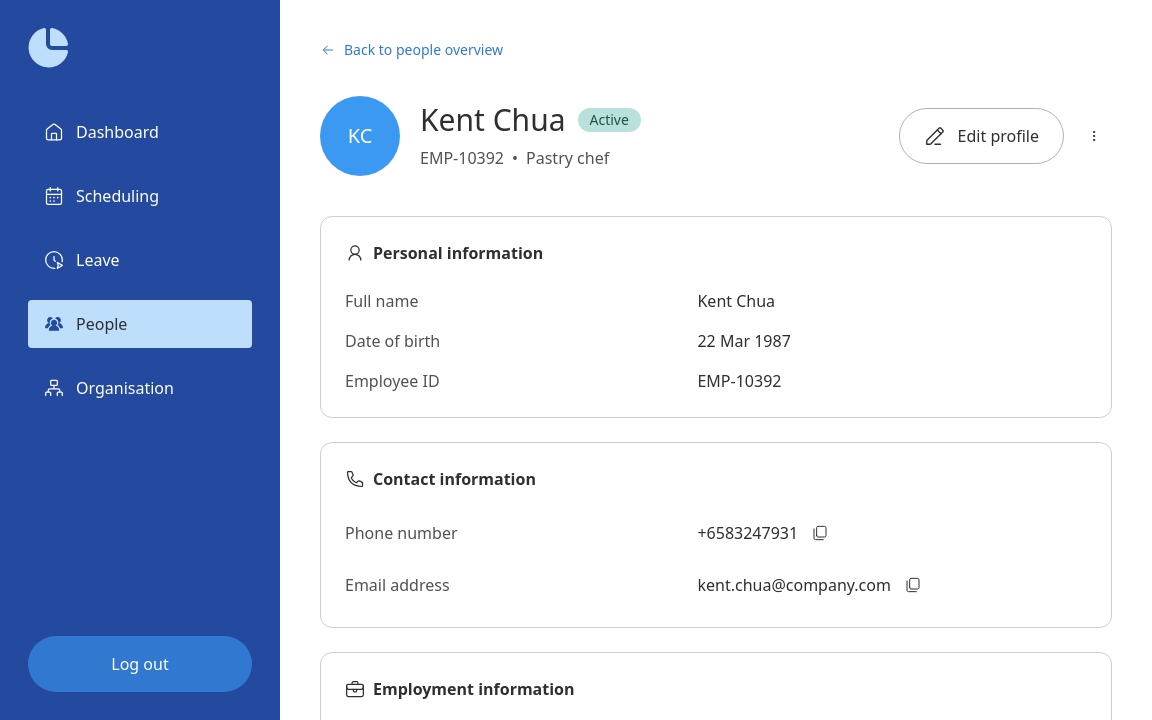
Test case: Editing a person › opens from Edit profile, linkable, with every field filled in and the employee ID fixed
Click the link "Edit profile" at (981, 136), box [899,108,1064,164]
(page scrolled)
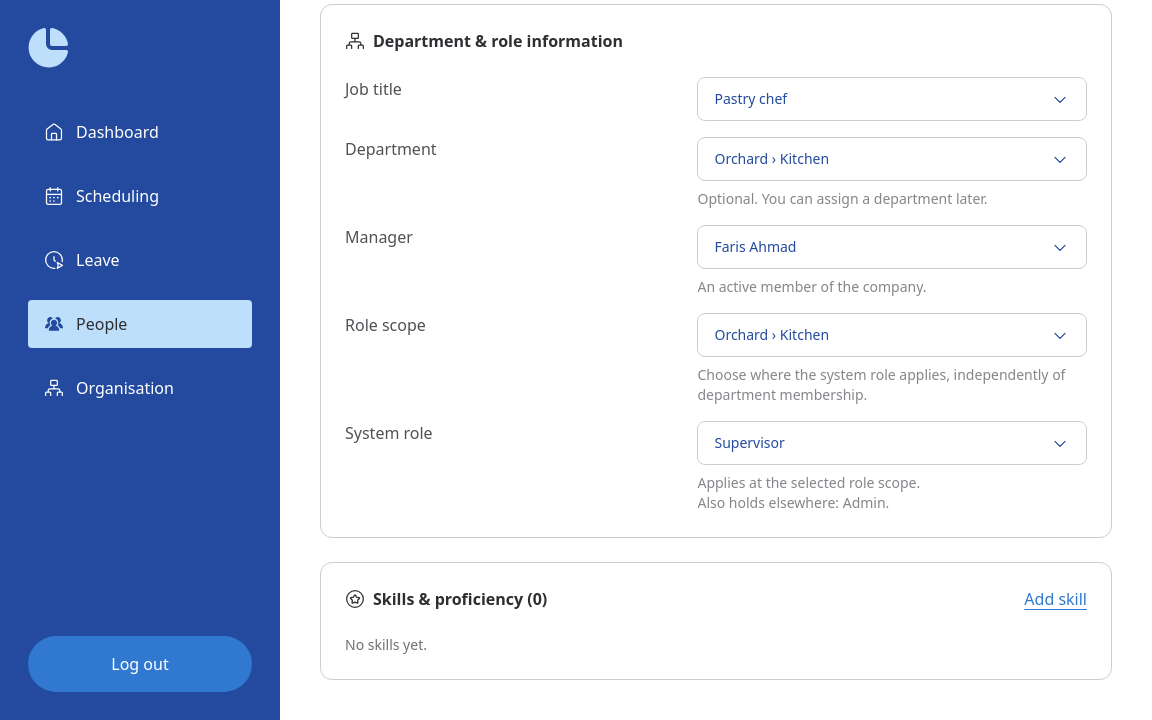
expect the button named "Job title" reads "Pastry chef": met, box [698,77,1087,121]
expect the button named "Department" reads "Orchard › Kitchen": met, box [698,137,1087,181]
expect the text "Also holds elsewhere: Admin." is shown: met, box [698,493,920,513]
